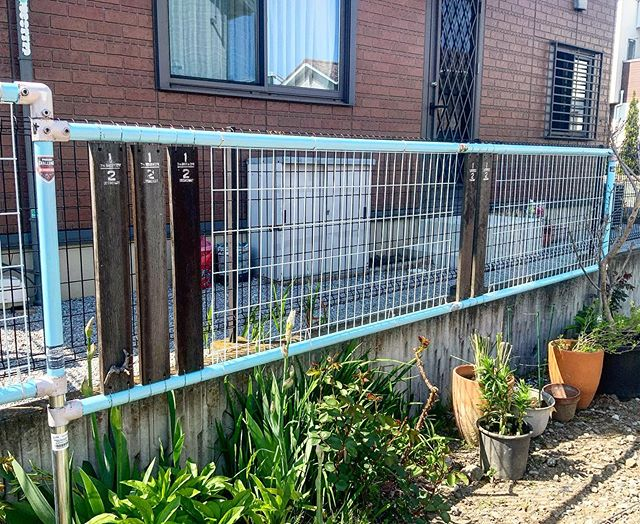building: (1, 1, 620, 270)
vegetation: (59, 352, 434, 519)
